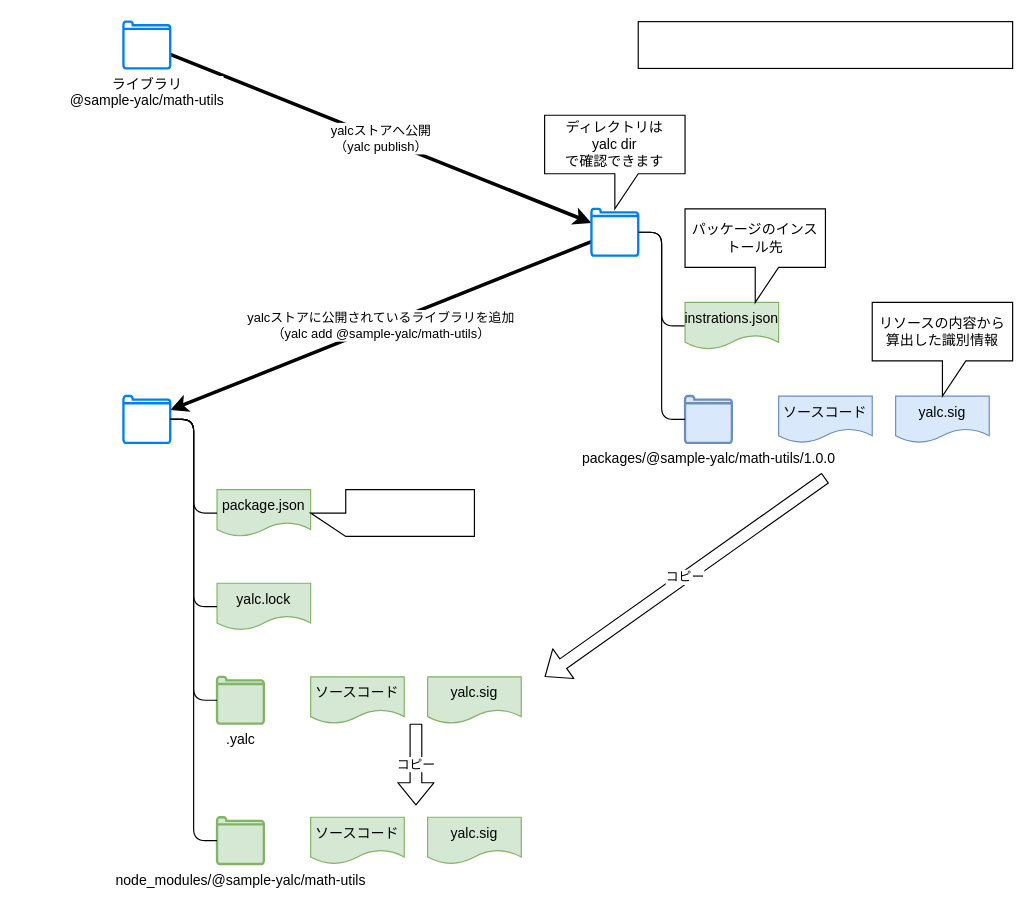
This 1033x908 diagram has some shape labels left out. The shapes that lost their labels are listed below. From the top down, each one's centre as x and y in pixels, then its label:
the point at 825,44: 青：publishのタイミングで生成/更新されるリソース 緑：addのタイミングで生成 /更新 されるリソース
the point at 614,231: yalcストア
the point at 146,418: ライブラリを利用するアプリケーション demo-app
the point at 391,512: 依存関係を変更
